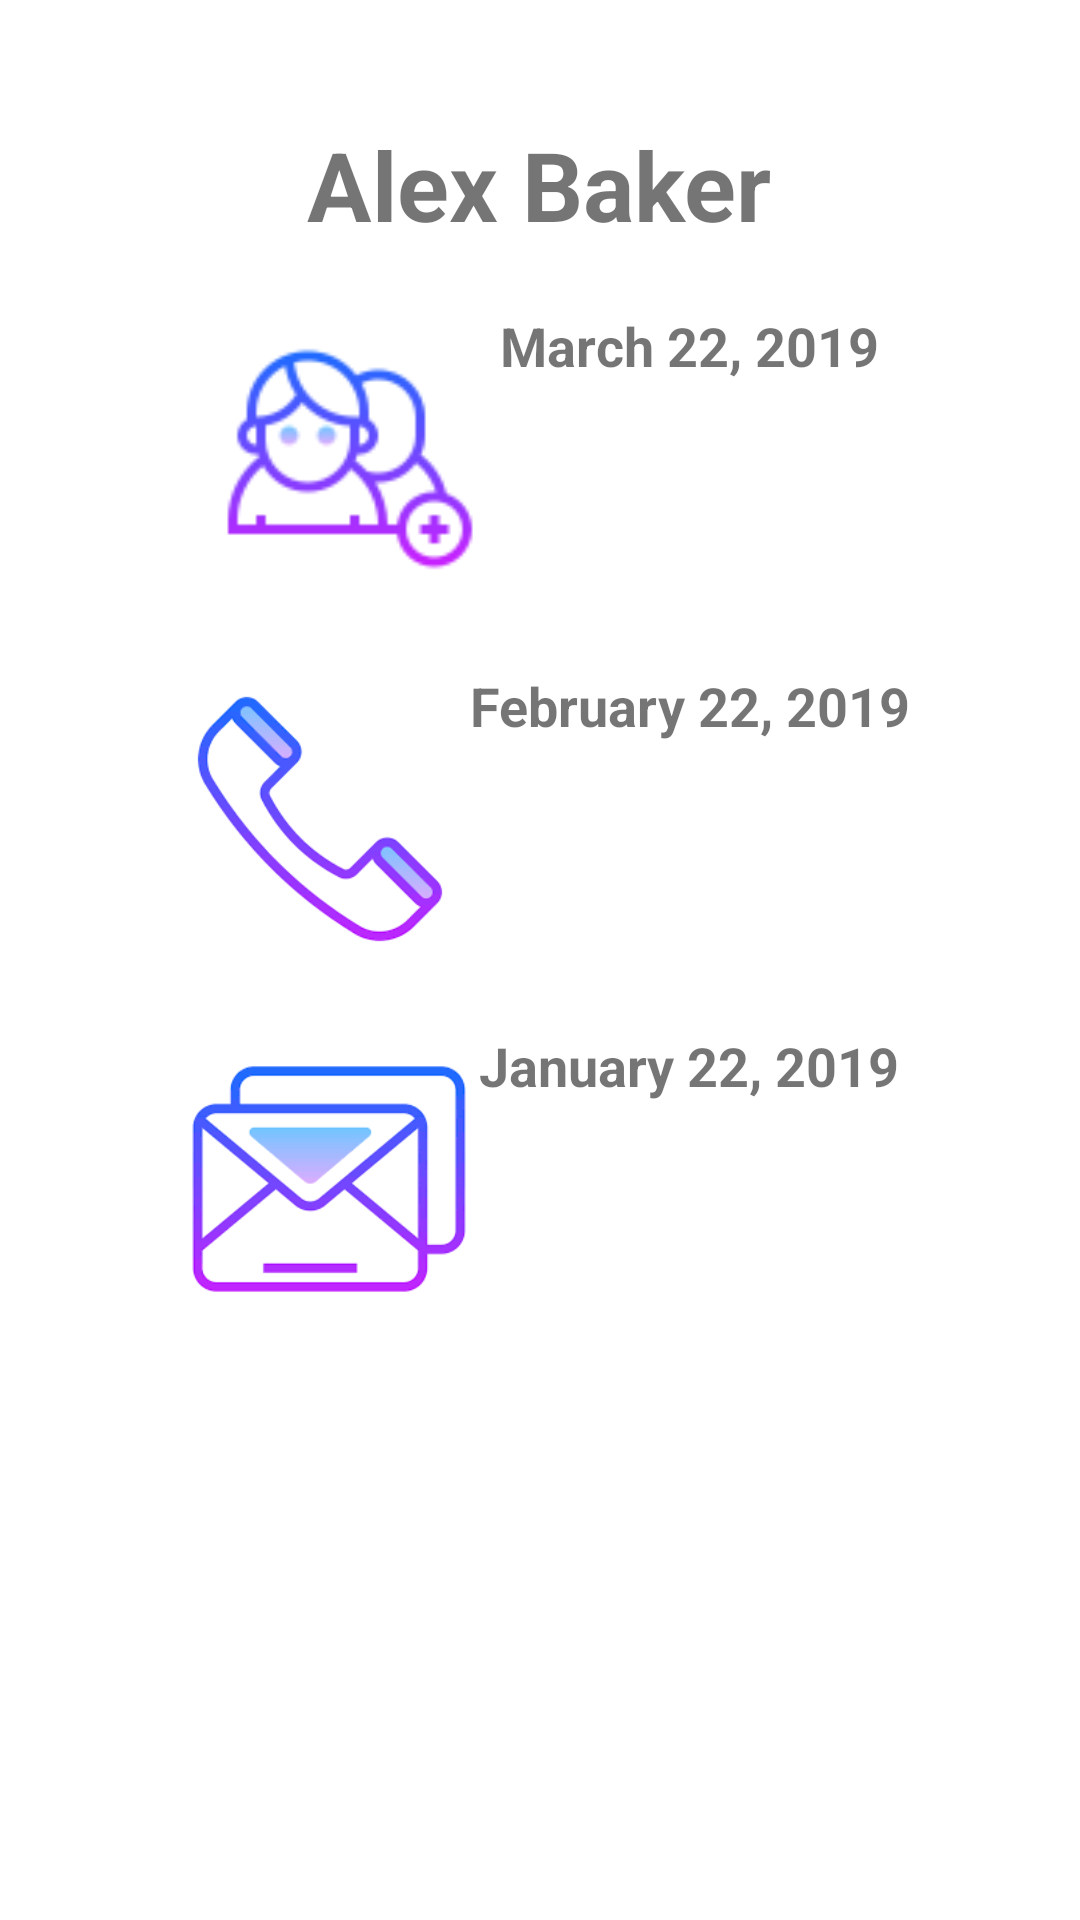

Where icons sit on this 1080px x 1920px app screen, as (x1, y1, x2, y2):
message: (192, 1066, 466, 1292)
phone: (197, 696, 442, 942)
